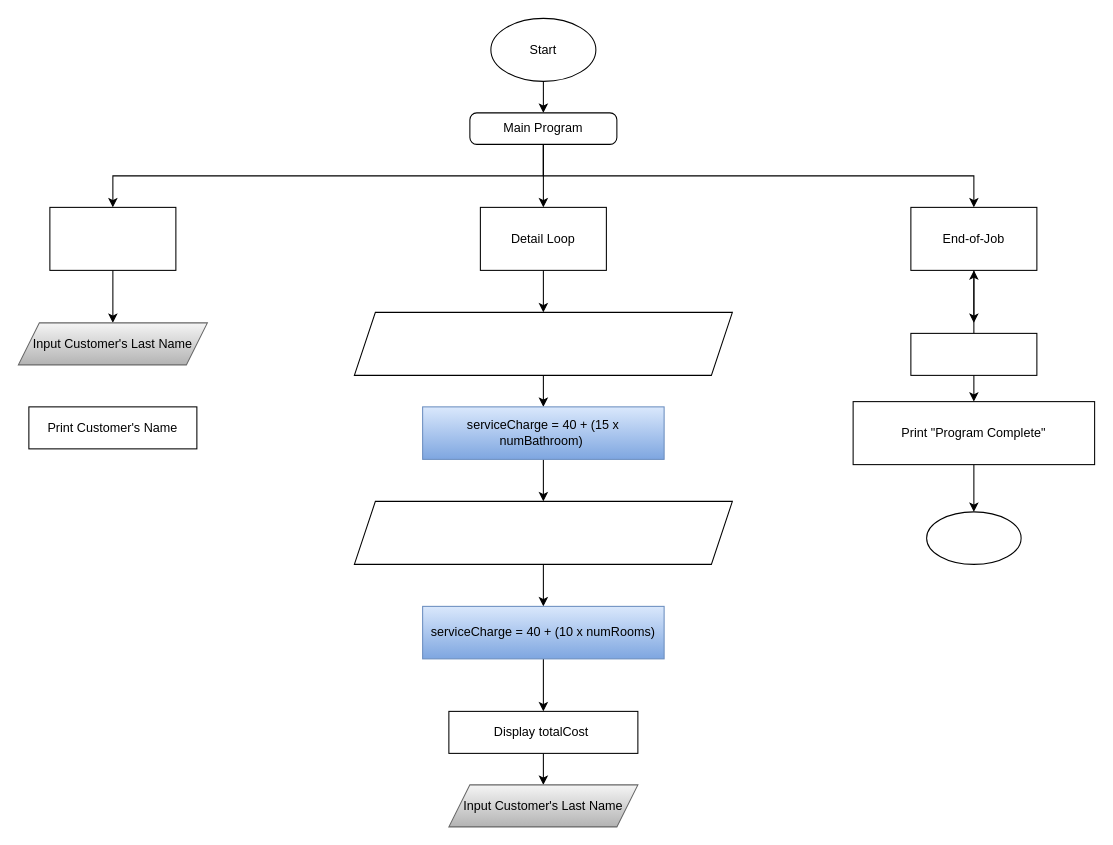
Some shapes in this 1113 by 845 pixel diagram are drawn without their labels. Here are the shapes that lost their labels. From the top down, the centre of each, then its label:
At [112,238]: "Housekeeping".
At [542,343]: "Input Number of Bathrooms to be cleaned".
At [973,353]: "lastName = ZZZZ".
At [542,532]: "Input Number of Rooms to be Cleaned".
At [973,537]: "End".
